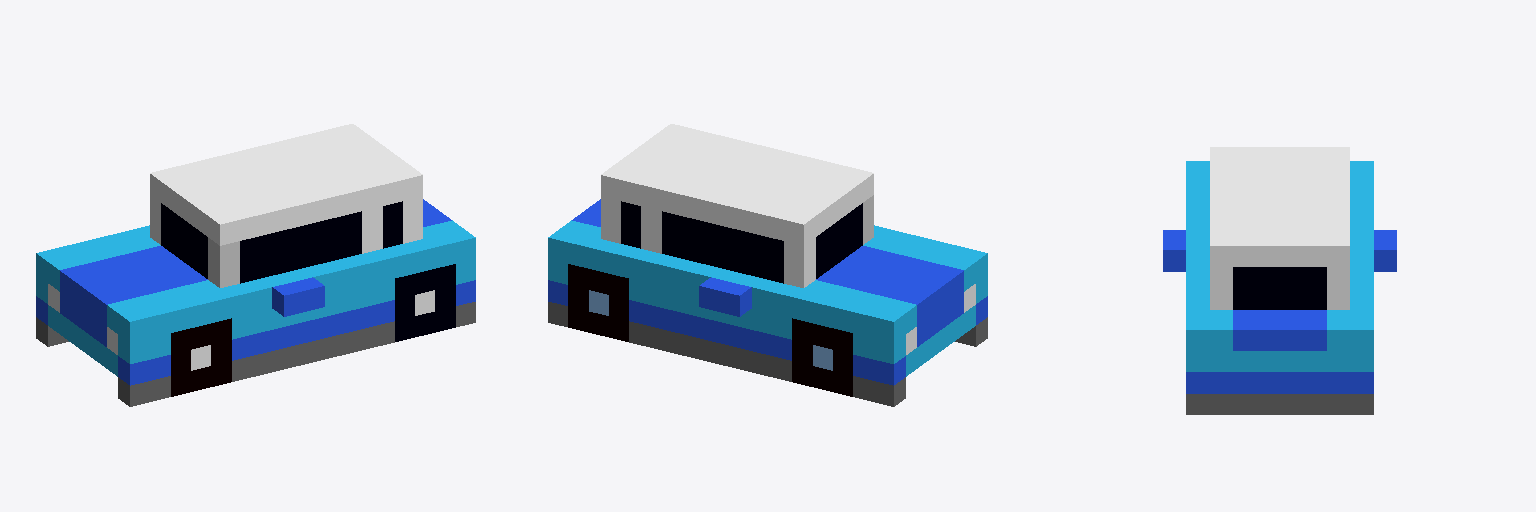
The picture shows the model from 3 angles: view 1: azimuth 30°, elevation 25°; view 2: azimuth 150°, elevation 25°; view 3: azimuth 270°, elevation 25°; orthographic projection.
Parts seen in each view (by area): view 1: object 1; view 2: object 1; view 3: object 1.
Boxes of the visible parts, x1,y1,x2,y2 form: object 1: [36, 124, 475, 406]; object 1: [548, 124, 987, 406]; object 1: [1163, 147, 1396, 414].
Size of the model in its own units: 1.7 by 0.7 by 1.
1 materials, 1 textured.